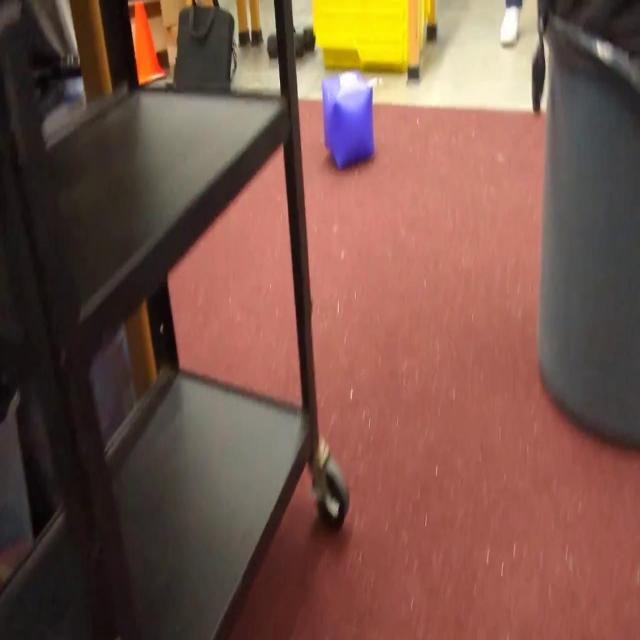frc_cube: (322, 69, 374, 170)
